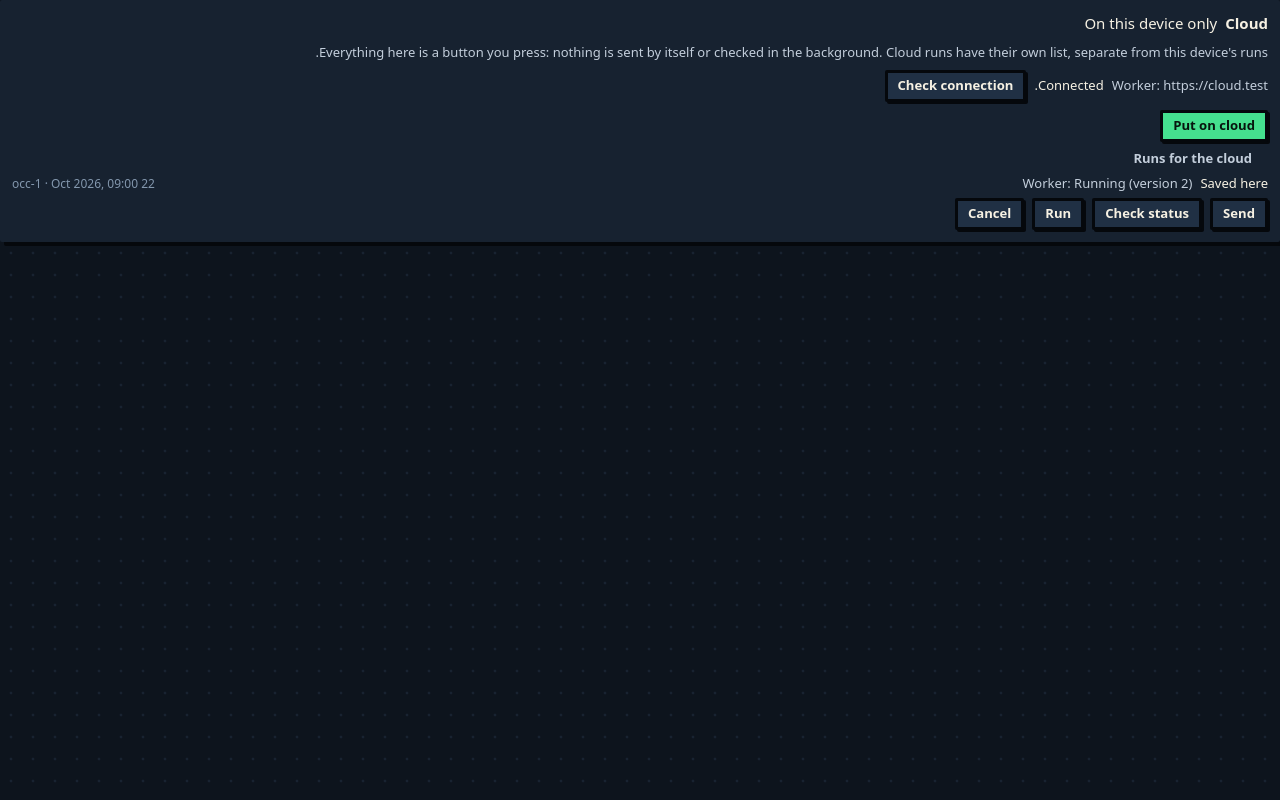
journal entries and cloud runs › outcome copy: answered with a receipt, unconfirmed after sending, refused suppressed
Click the button "Check status": (1147, 214) [1092,198,1202,230]
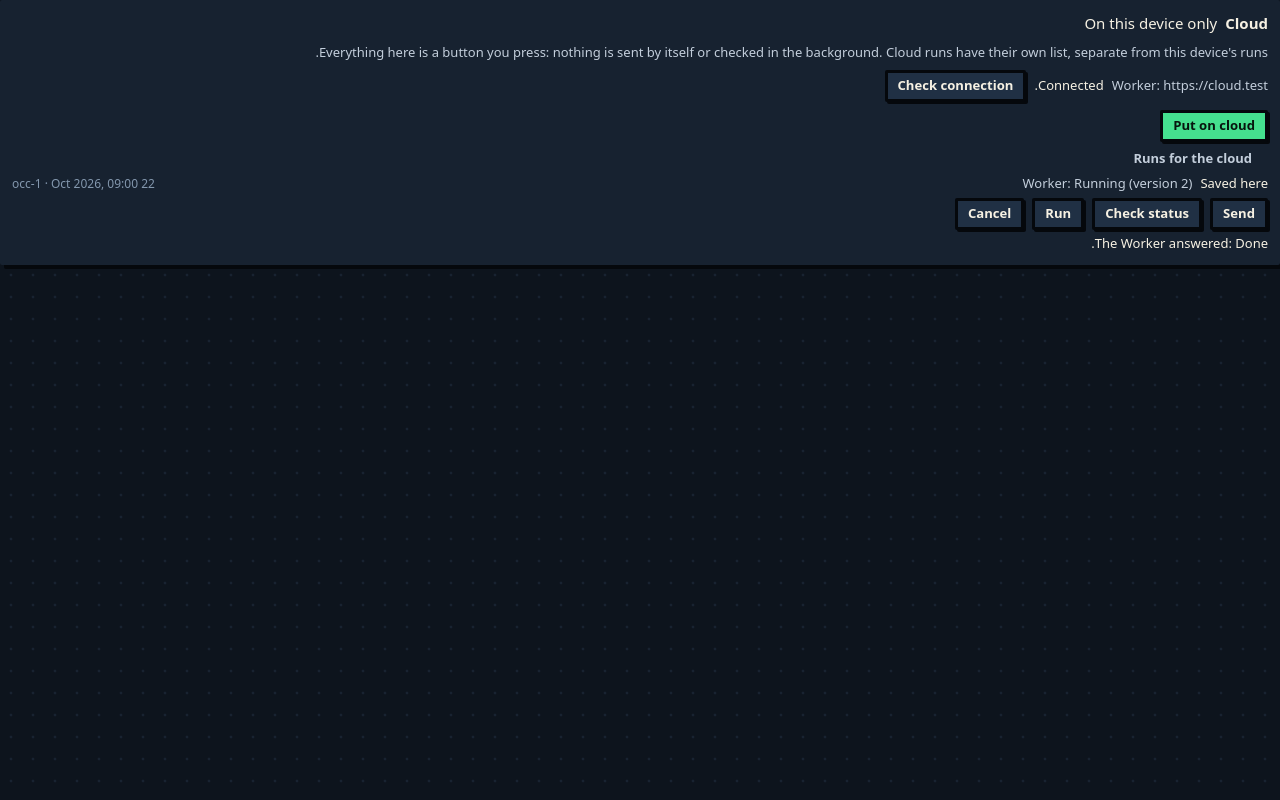
Expected: the message "The Worker answered: Done." is shown, [1091,234,1268,252]
Click the button "Check status": (1147, 214) [1092,198,1202,230]
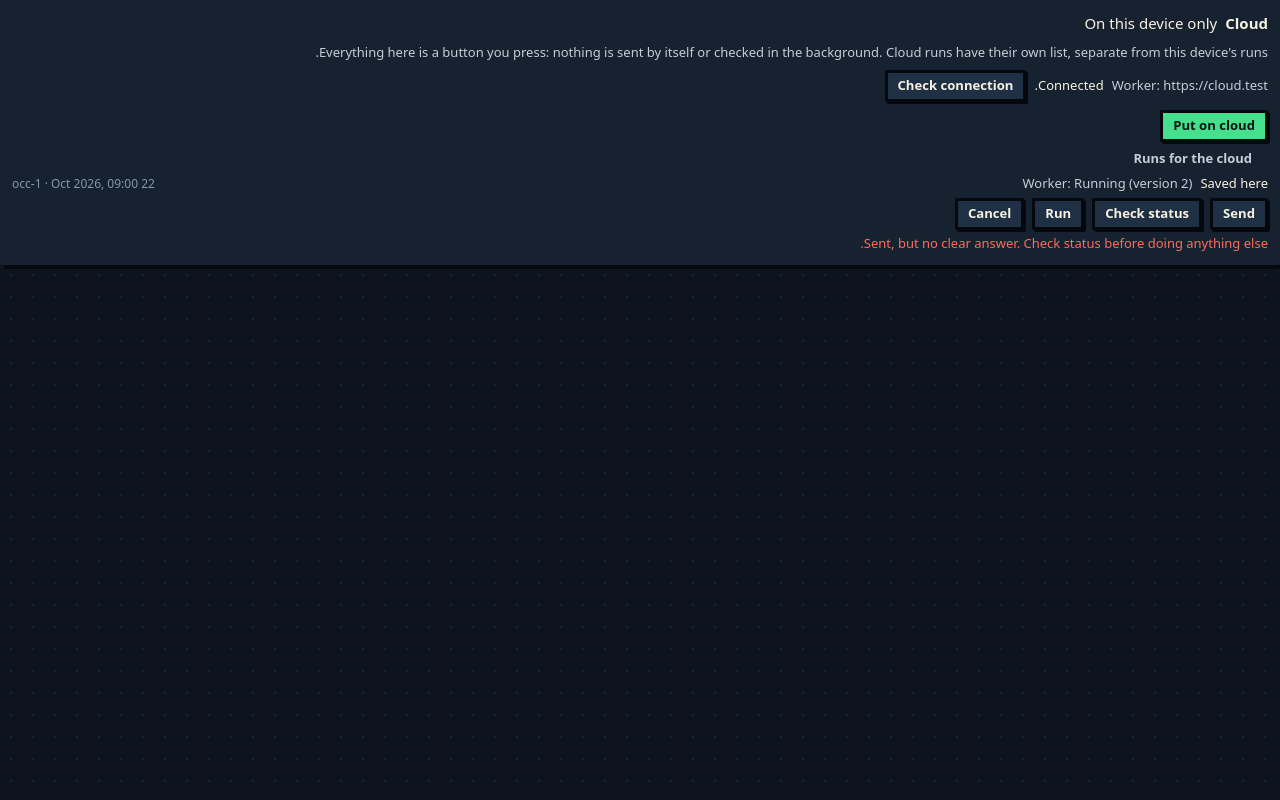
Click the button "Check status": (1147, 214) [1092,198,1202,230]
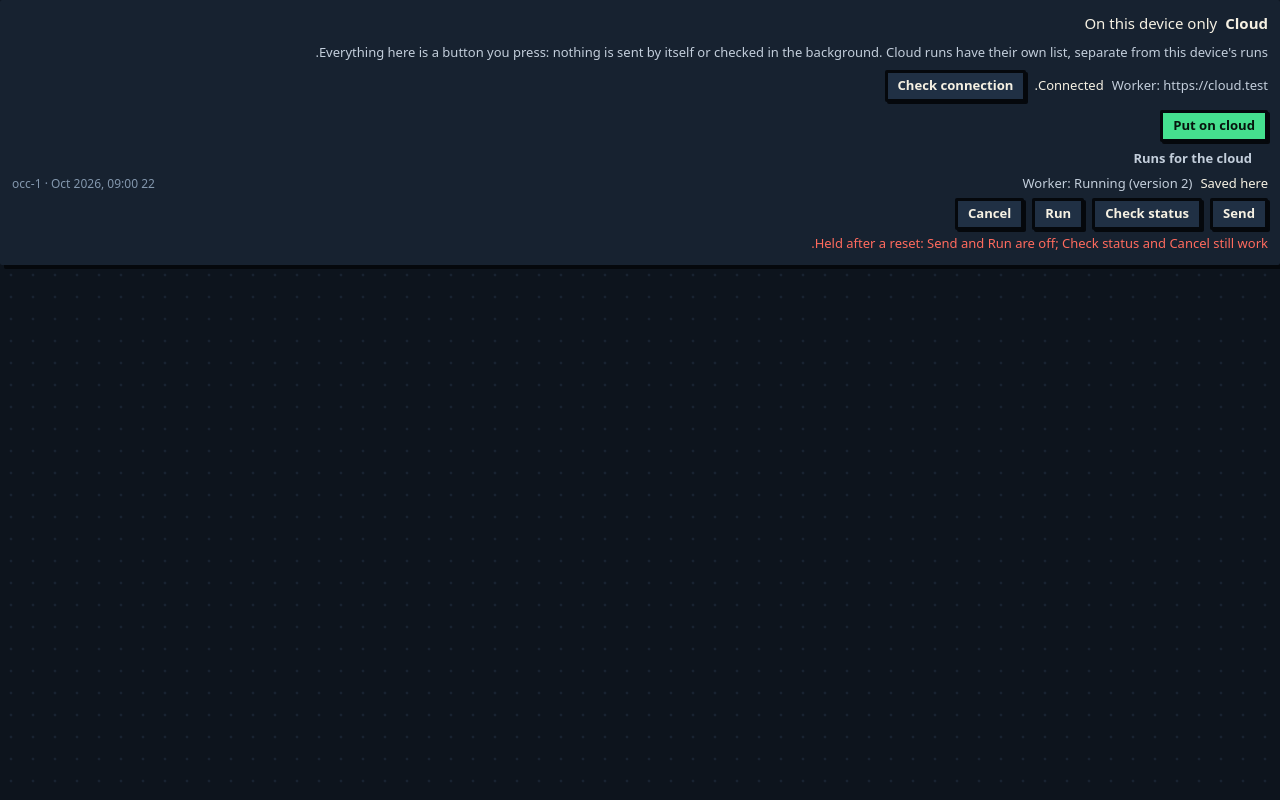
Click the button "Check status": (1147, 214) [1092,198,1202,230]
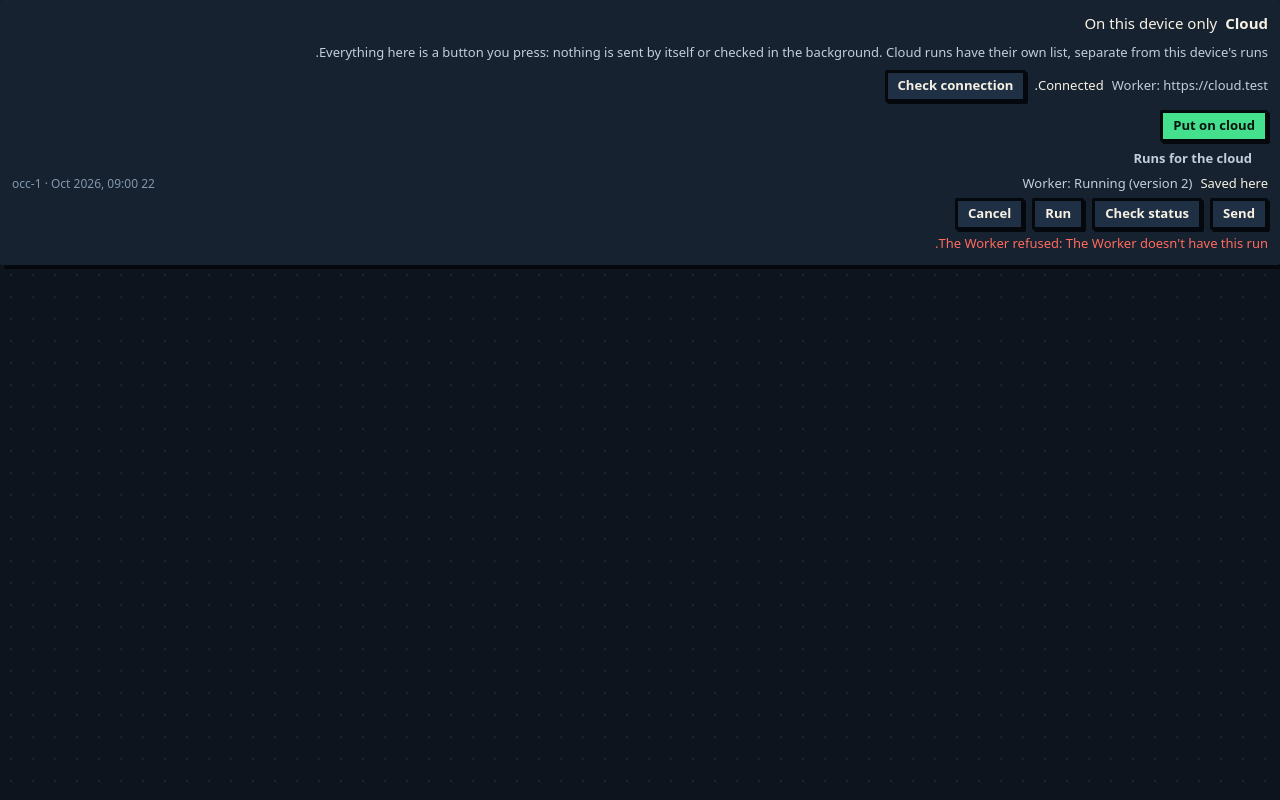
Expected: the message "The Worker refused: The Worker doesn't have this run." is shown, [935,234,1268,252]
